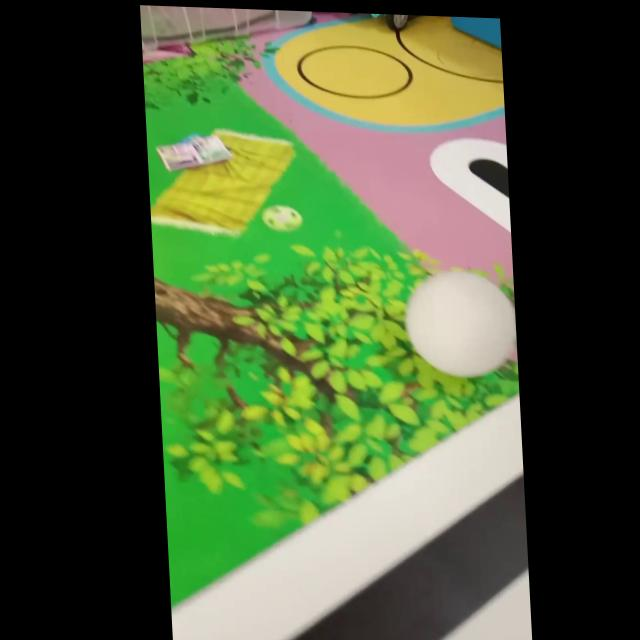white ball: (401, 266, 517, 380)
